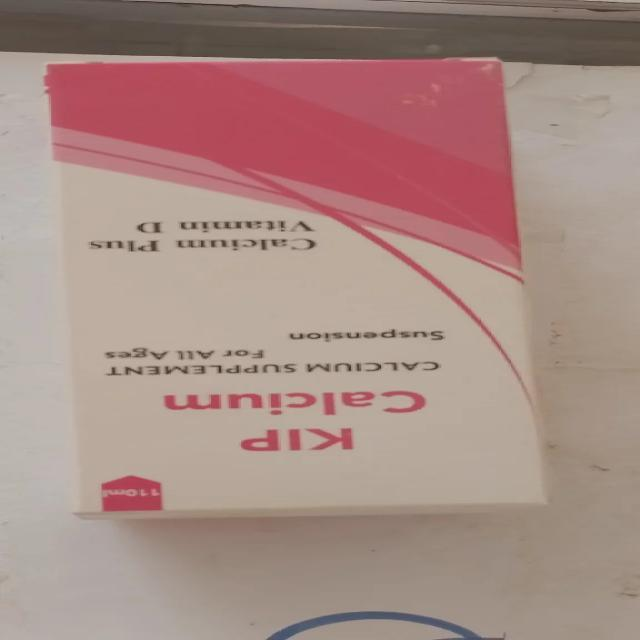drug-name: (150, 378, 438, 464)
